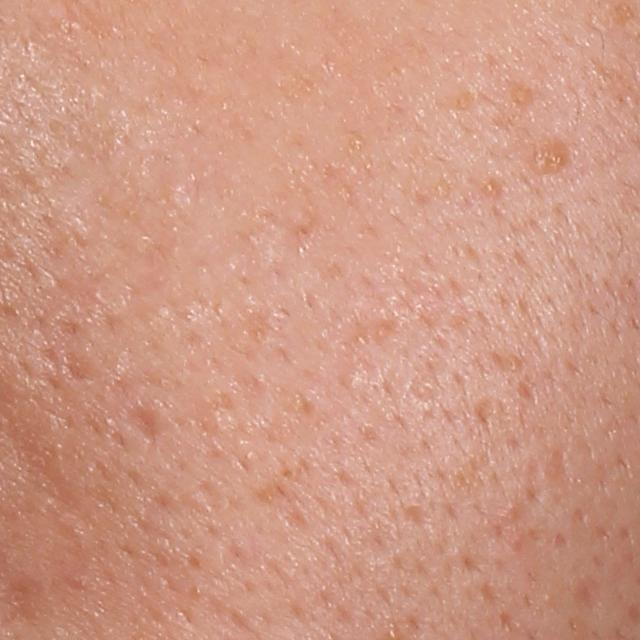atrophic_scar: (572, 576, 610, 616), (132, 404, 160, 445), (544, 444, 572, 481), (476, 400, 499, 429), (404, 506, 428, 533)
comedo: (481, 176, 499, 198)
